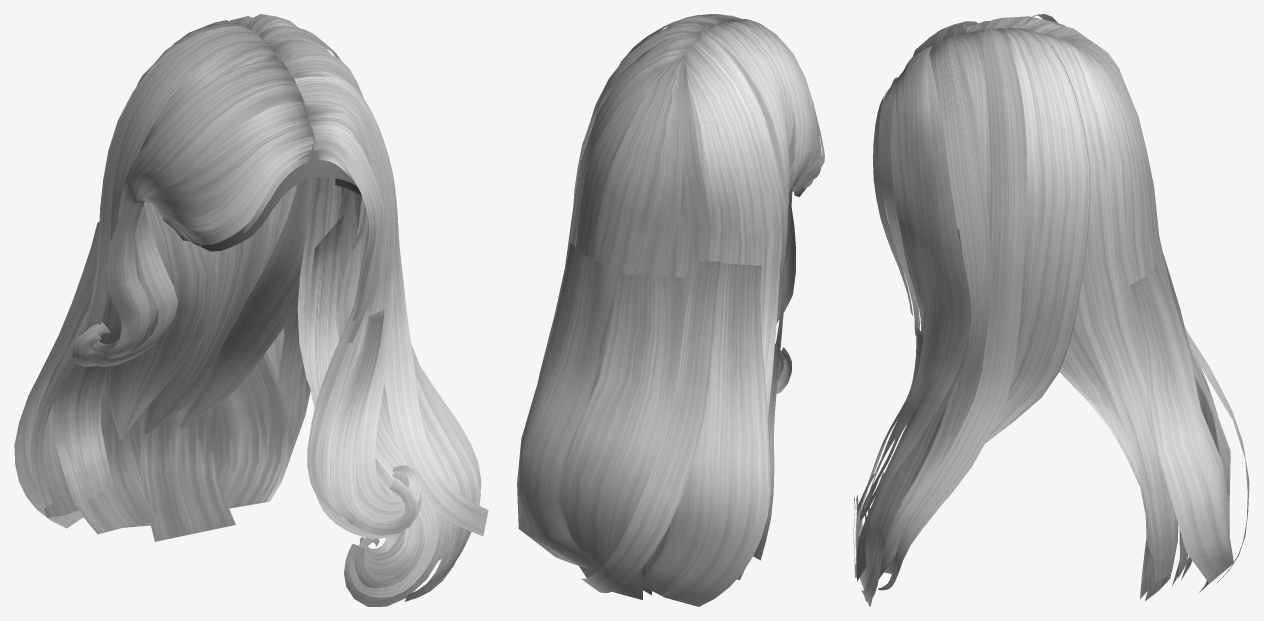
The model's file is scbe_hair_combed_to_one_side_with_bones.fbx.
3 renders of one model, left to right at view 1: azimuth 30°, elevation 25°; view 2: azimuth 150°, elevation 25°; view 3: azimuth 270°, elevation 25°, orthographic. The views are drawn at different scales.
Parts seen in each view (by area): view 1: IP_SCBE_F_HAIR_10; view 2: IP_SCBE_F_HAIR_10; view 3: IP_SCBE_F_HAIR_10.
Boxes of the visible parts, x1,y1,x2,y2 form: IP_SCBE_F_HAIR_10: (14,14,488,606); IP_SCBE_F_HAIR_10: (517,14,824,606); IP_SCBE_F_HAIR_10: (853,14,1249,606).
Bounding box in the file's own units: 0.00361 × 0.006 × 0.00382.
Materials: 4 (4 with a texture image).
